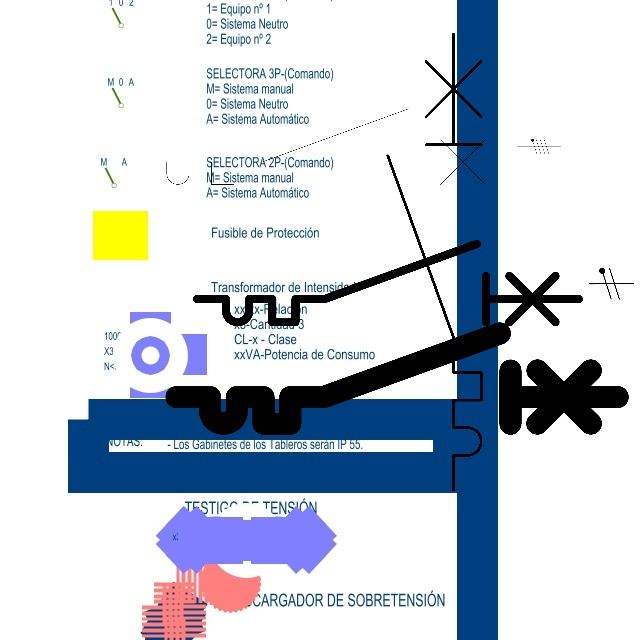interruptor_termomagnetico: (376, 22, 493, 502), (165, 322, 629, 435), (187, 234, 589, 332), (129, 99, 517, 194)
